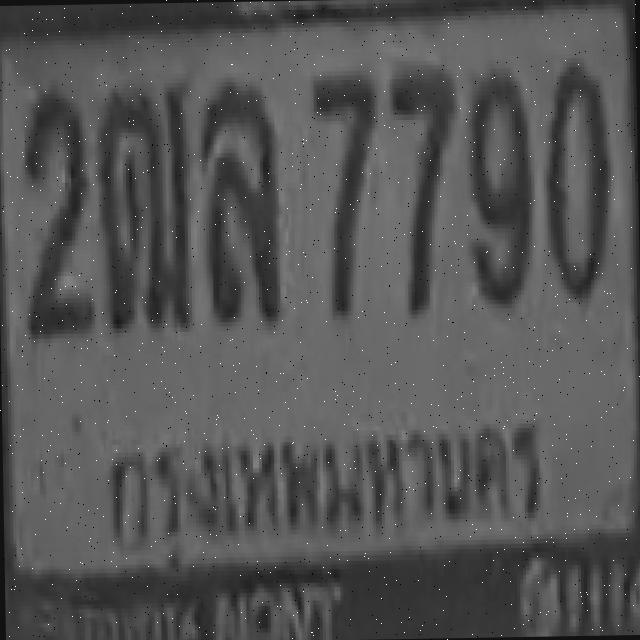0: (541, 57, 609, 298)
2: (21, 84, 88, 334)
27ThorPhuThao: (91, 82, 188, 328)
45LorLing: (197, 81, 277, 322)
7: (386, 62, 454, 312), (310, 68, 374, 314)
9: (464, 61, 528, 302)
Bangkok: (76, 373, 562, 579)
